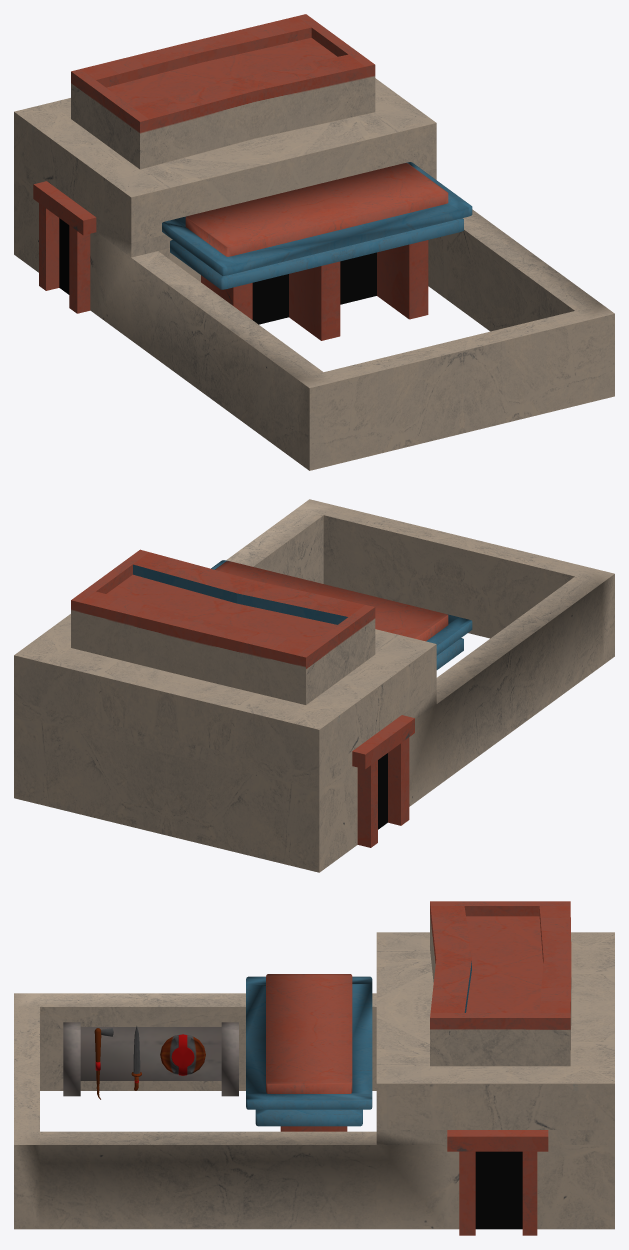
Rendered from ligeros aztecas.fbx.
3 views of the same model, one above another, from view 1: azimuth 30°, elevation 25°; view 2: azimuth 150°, elevation 25°; view 3: azimuth 270°, elevation 25° (orthographic).
Visible parts, largest first — view 1: pesados; view 2: pesados; view 3: pesados.
Boxes of the visible parts, x1,y1,x2,y2 form: pesados: (14, 14, 614, 470); pesados: (14, 499, 614, 872); pesados: (14, 901, 614, 1235).
Bounding box in the file's own units: 766 × 433 × 1181.
Materials: 1 (1 with a texture image).
